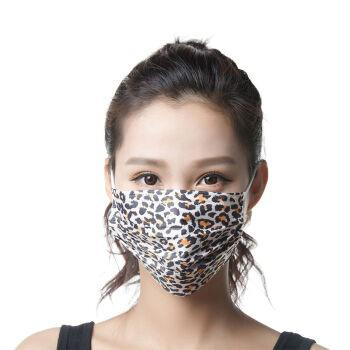OK: (114, 153, 243, 282)
